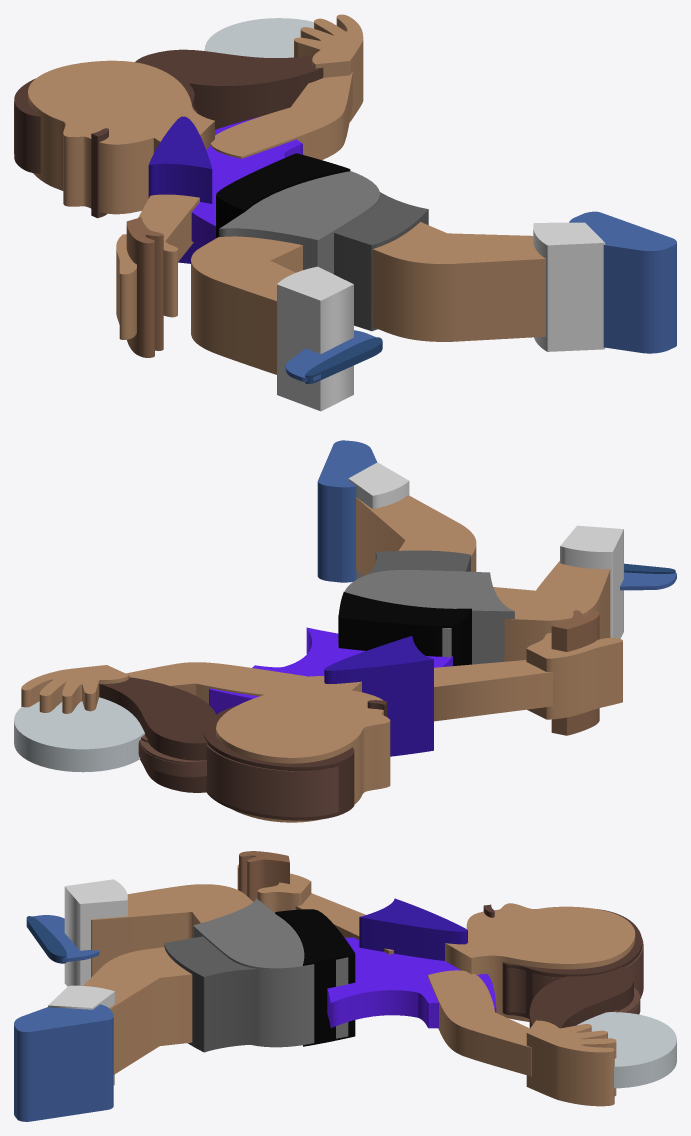
The model's file is emoji_u1f93e_1f3fd_200d_2640.glb.
3 views of the same model, one above another, from view 1: azimuth 30°, elevation 25°; view 2: azimuth 150°, elevation 25°; view 3: azimuth 270°, elevation 25° (orthographic). The views are drawn at different scales.
Visible parts, largest first — view 1: emoji_u1f93e_1f3fd_200d_2640; view 2: emoji_u1f93e_1f3fd_200d_2640; view 3: emoji_u1f93e_1f3fd_200d_2640.
Part boxes in pixels (x1,y1,x2,y2): emoji_u1f93e_1f3fd_200d_2640: [14, 14, 676, 411]; emoji_u1f93e_1f3fd_200d_2640: [14, 440, 676, 822]; emoji_u1f93e_1f3fd_200d_2640: [14, 851, 676, 1121].
Bounding box in the file's own units: 0.0224 × 0.0056 × 0.0335.
